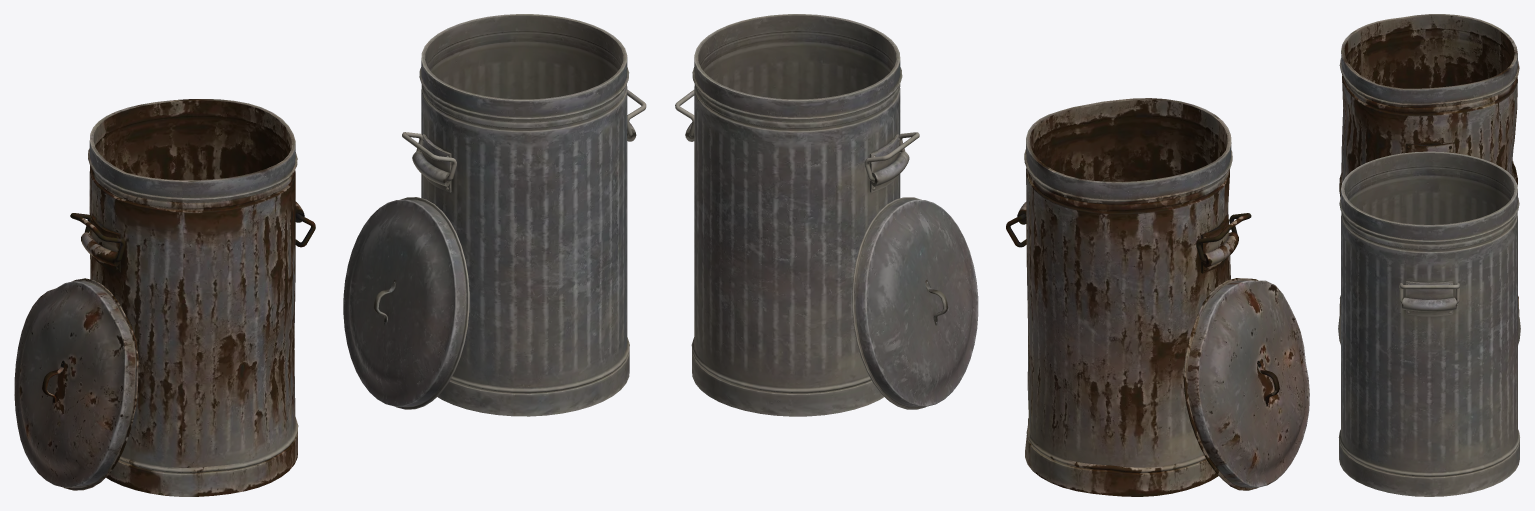
The model's file is metal_trash_can.glb.
3 renders of one model, left to right at view 1: azimuth 30°, elevation 25°; view 2: azimuth 150°, elevation 25°; view 3: azimuth 270°, elevation 25°, orthographic. The views are drawn at different scales.
Parts seen in each view (by area): view 1: metal_trash_can, metal_trash_can_rust, metal_trash_can_lid, metal_trash_can_rust_lid; view 2: metal_trash_can, metal_trash_can_rust, metal_trash_can_lid, metal_trash_can_rust_lid; view 3: metal_trash_can, metal_trash_can_rust, metal_trash_can_handle_right.
Boxes of the visible parts, x1,y1,x2,y2 form: metal_trash_can: (412, 14, 636, 416); metal_trash_can_rust: (81, 99, 304, 496); metal_trash_can_lid: (343, 197, 469, 409); metal_trash_can_rust_lid: (14, 278, 138, 490); metal_trash_can: (685, 14, 909, 416); metal_trash_can_rust: (1017, 98, 1238, 496); metal_trash_can_lid: (852, 197, 978, 409); metal_trash_can_rust_lid: (1183, 278, 1309, 490); metal_trash_can: (1338, 151, 1519, 496); metal_trash_can_rust: (1339, 14, 1519, 316); metal_trash_can_handle_right: (1399, 283, 1459, 303).
Bounding box in the file's own units: 1.78 × 0.9062 × 0.5563.
2 materials, 2 textured.
